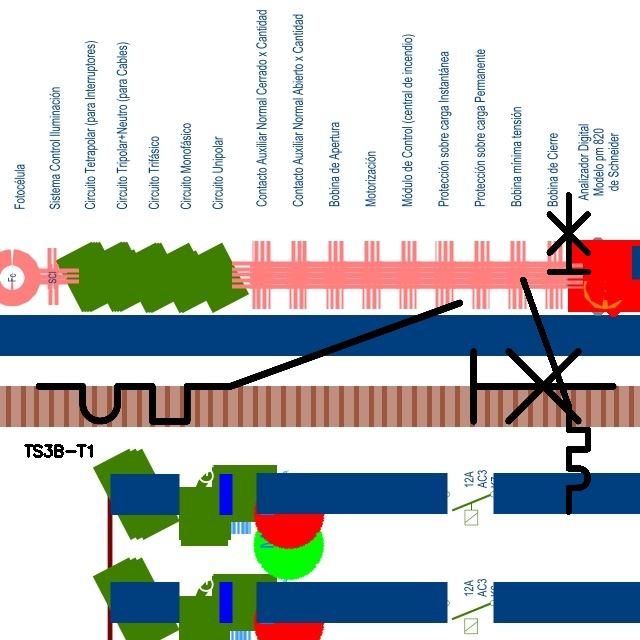interruptor_termomagnetico: (24, 288, 628, 436), (515, 187, 596, 520)
